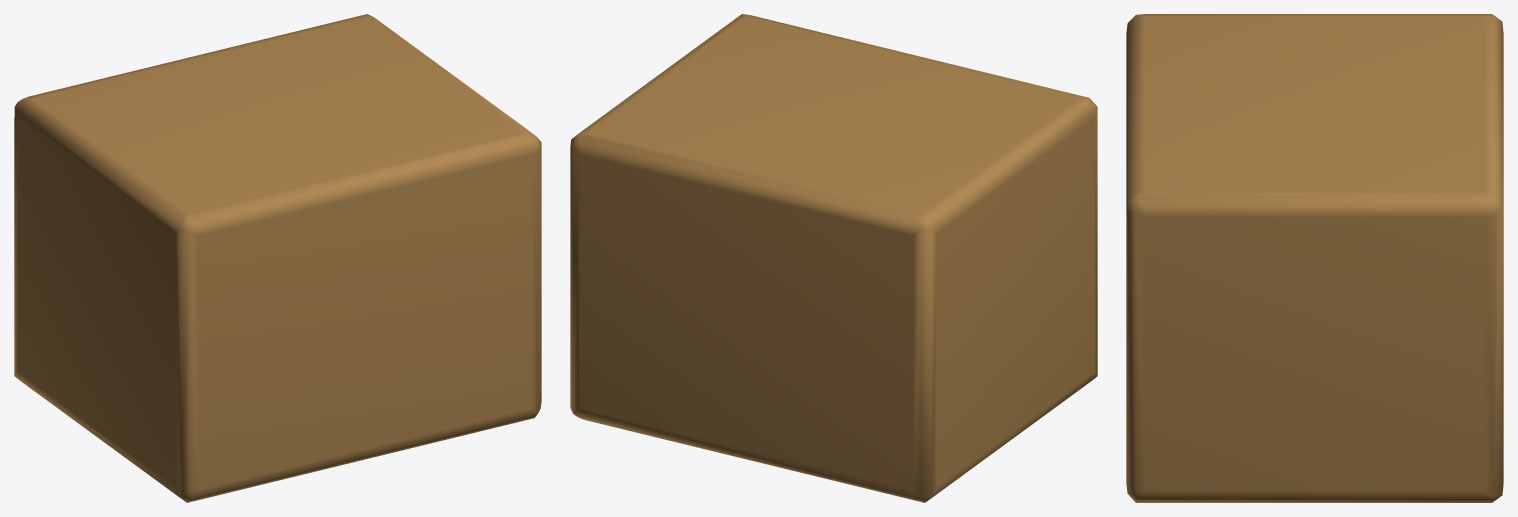
The model's file is goi_hang.glb.
3 views of the same model, side by side, from view 1: azimuth 30°, elevation 25°; view 2: azimuth 150°, elevation 25°; view 3: azimuth 270°, elevation 25° (orthographic). The views are drawn at different scales.
Parts seen in each view (by area): view 1: goi_hang; view 2: goi_hang; view 3: goi_hang.
Part boxes in pixels (x1,y1,x2,y2): goi_hang: (14, 14, 541, 502); goi_hang: (570, 14, 1097, 502); goi_hang: (1126, 14, 1503, 502).
Size of the model in its own units: 0.24 by 0.18 by 0.2.
